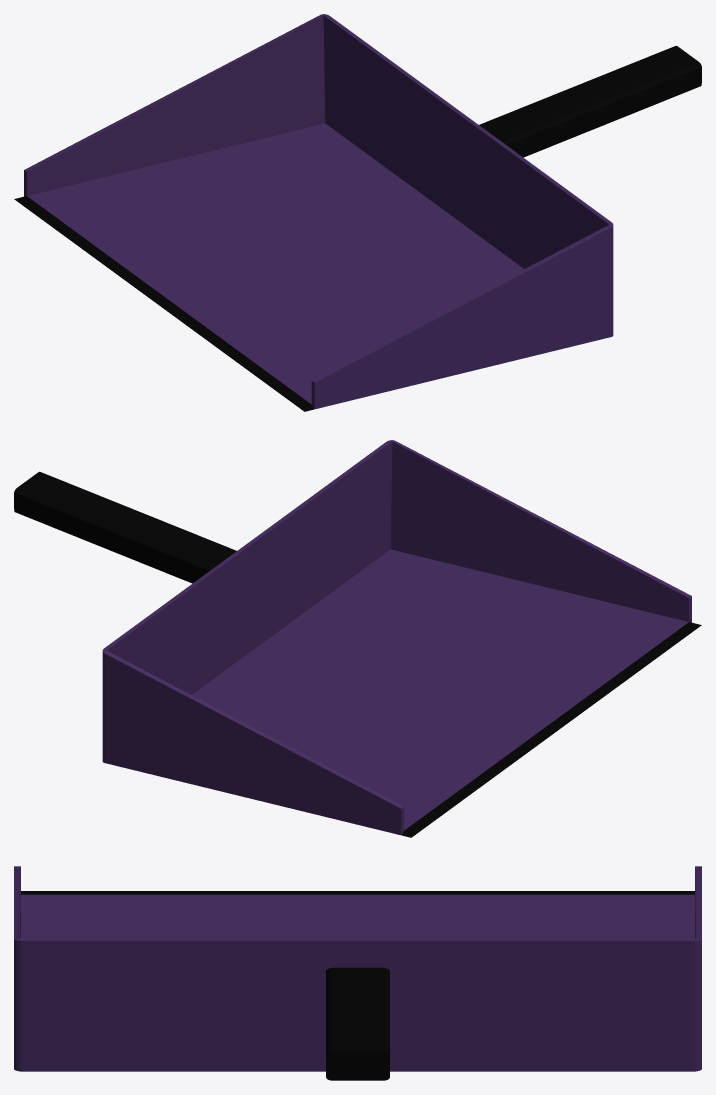
Rendered from Dustpan.fbx.
The picture shows the model from 3 angles, top to bottom: view 1: azimuth 30°, elevation 25°; view 2: azimuth 150°, elevation 25°; view 3: azimuth 270°, elevation 25°; orthographic projection. The views are drawn at different scales.
Parts seen in each view (by area): view 1: Dustpan_Body, Dustpan_Handle; view 2: Dustpan_Body, Dustpan_Handle; view 3: Dustpan_Body, Dustpan_Handle.
Part boxes in pixels (box(x1,y1,x2,y2)): Dustpan_Body: box(14, 14, 613, 411); Dustpan_Handle: box(479, 45, 701, 157); Dustpan_Body: box(102, 440, 701, 837); Dustpan_Handle: box(14, 471, 236, 583); Dustpan_Body: box(14, 866, 701, 1071); Dustpan_Handle: box(326, 967, 389, 1080).
Size of the model in its own units: 351 by 77.54 by 334.
